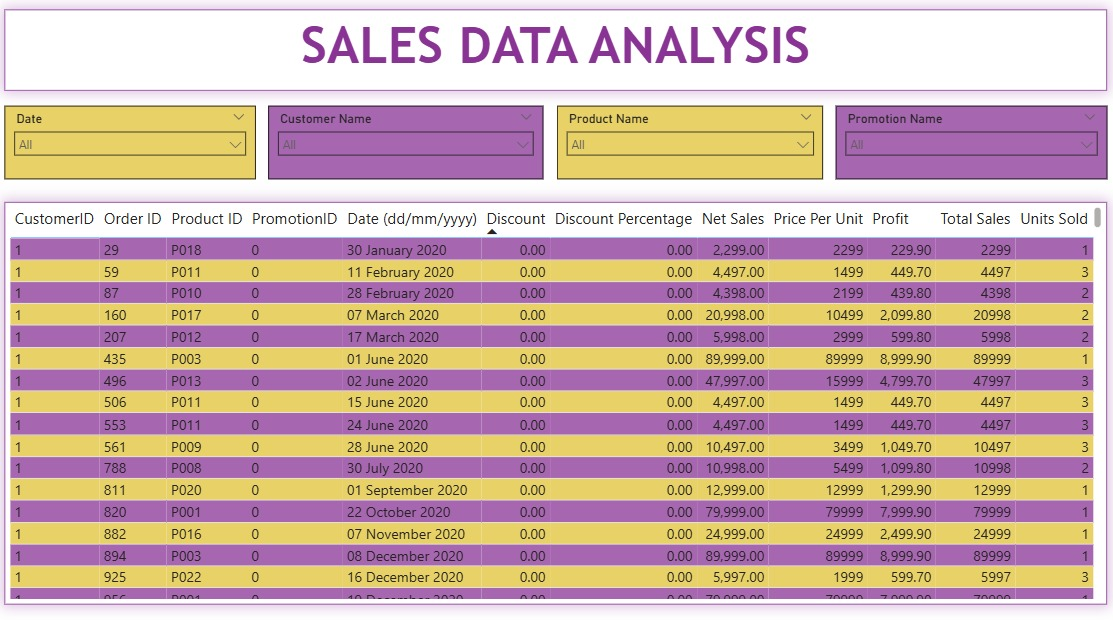

Layout of this report page (visuals, bound fields, positions):
{"tool":"powerbi","page":{"name":"Table Visuals","canvas":[1280,720],"ordinal":4},"visuals":[{"type":"tableEx","fields":{"Values":["Fact Table.CustomerID","Fact Table.Order ID","Fact Table.Product ID","Fact Table.PromotionID","Fact Table.Date (dd/mm/yyyy)","Fact Table.Discount","Fact Table.Discount Percentage","Fact Table.Net Sales   ","Fact Table.Price Per Unit","Fact Table.Profit","Fact Table.Total Sales    ","Fact Table.Units Sold"]},"box":[8.6,234.3,1260,460],"z":0},{"type":"slicer","fields":{"Values":["Date Table 1.Date"]},"box":[8.6,124.3,287.1,84.3],"z":1000},{"type":"slicer","fields":{"Values":["Dim Customers.Customer Name"]},"box":[310,124.3,314.3,84.3],"z":2000},{"type":"slicer","fields":{"Values":["Dim Product.Product Name"]},"box":[640,124.3,304.3,84.3],"z":3000},{"type":"slicer","fields":{"Values":["Dim Promotion.Promotion Name"]},"box":[958.6,124.3,310,84.3],"z":4000},{"type":"textbox","box":[8.6,14.3,1260,92.9],"z":4001}]}

Visuals, with their boxes in screenshot pixels (x1, y1, x2, y2), scaled from the page's 1280x720 canvas onto the 1113x620 screenshot:
tableEx - Fact Table.CustomerID x Fact Table.Order ID: <region>7, 202, 1103, 598</region>
slicer - Date Table 1.Date: <region>7, 107, 257, 180</region>
slicer - Dim Customers.Customer Name: <region>270, 107, 543, 180</region>
slicer - Dim Product.Product Name: <region>556, 107, 821, 180</region>
slicer - Dim Promotion.Promotion Name: <region>834, 107, 1103, 180</region>
textbox: <region>7, 12, 1103, 92</region>
